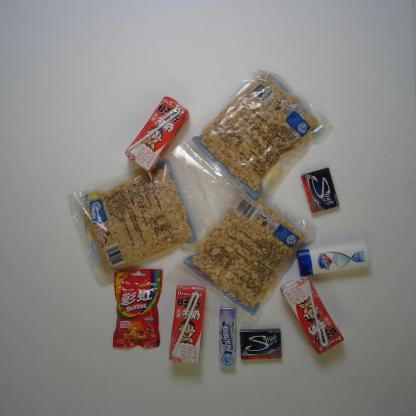Candy: (110, 265, 165, 351), (218, 307, 236, 368)
Dried Fruit: (179, 68, 337, 201), (183, 180, 312, 322), (65, 155, 203, 283)
Gum: (300, 164, 340, 216), (239, 326, 282, 362)
Milk: (125, 96, 190, 174), (280, 274, 343, 354), (168, 284, 206, 366)
Personal Hygiene: (296, 240, 372, 281)
